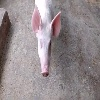heo: (30, 3, 65, 79)
